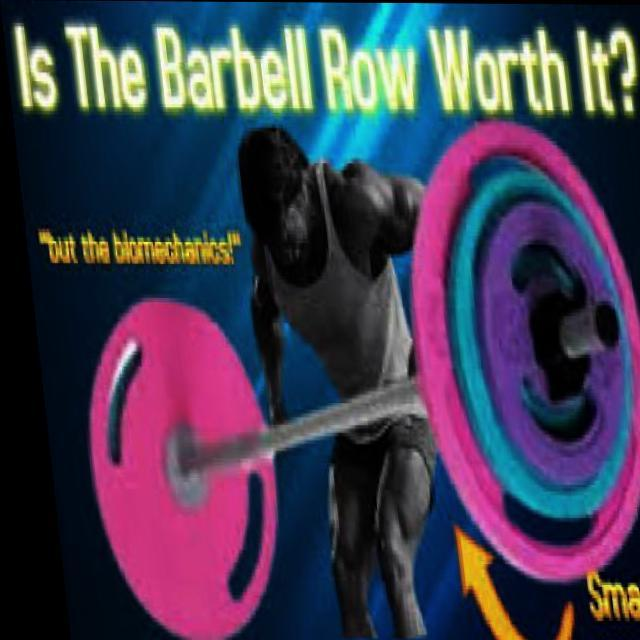barbell: (392, 117, 640, 588)
